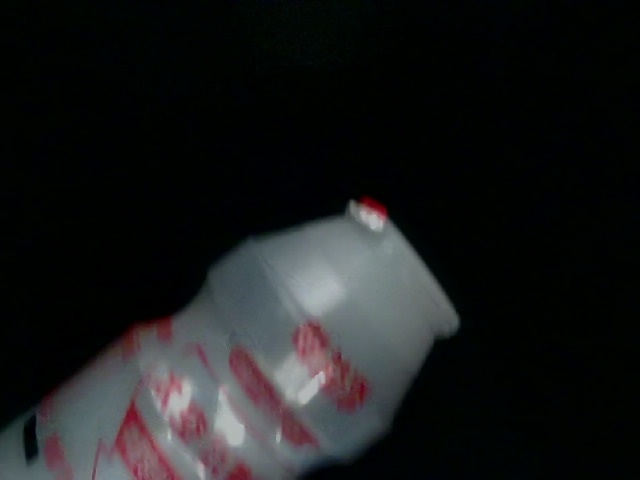CYLJ: (53, 216, 176, 329)
